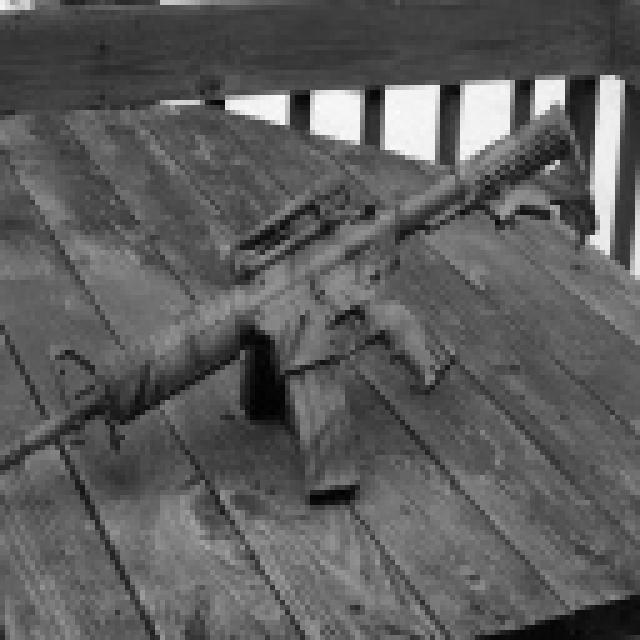Rifle: (2, 84, 600, 549)
